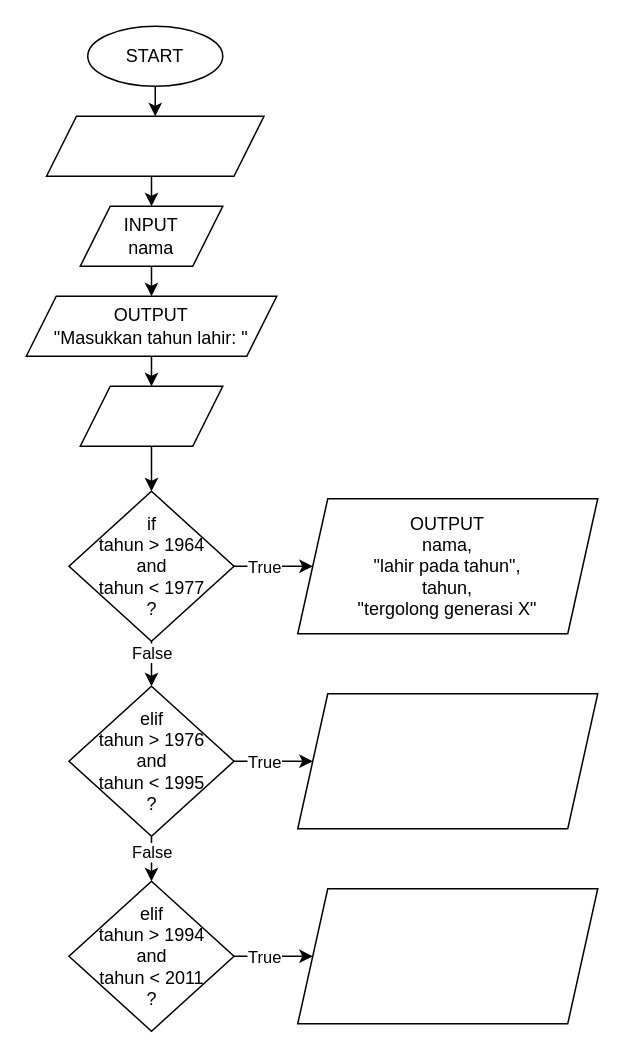
Image size: 624x1058. Some labels were removed from this diagram. Here are the shapes that lost their labels. From the top down, the box of each, then its label:
(45, 115, 264, 176): OUTPUT "Masukkan nama: "
(79, 385, 223, 446): INPUT tahun
(296, 692, 598, 829): OUTPUT nama, "lahir pada tahun", tahun, "tergolong generasi Millenial"
(296, 887, 598, 1024): OUTPUT nama, "lahir pada tahun", tahun, "tergolong generasi Z"
